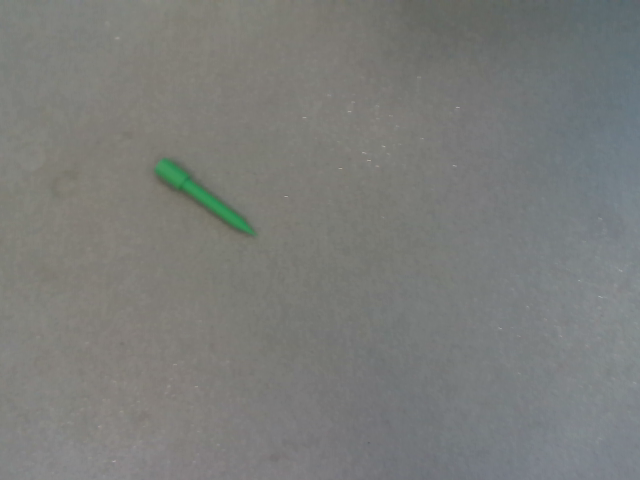Probe: (151, 153, 265, 245)
